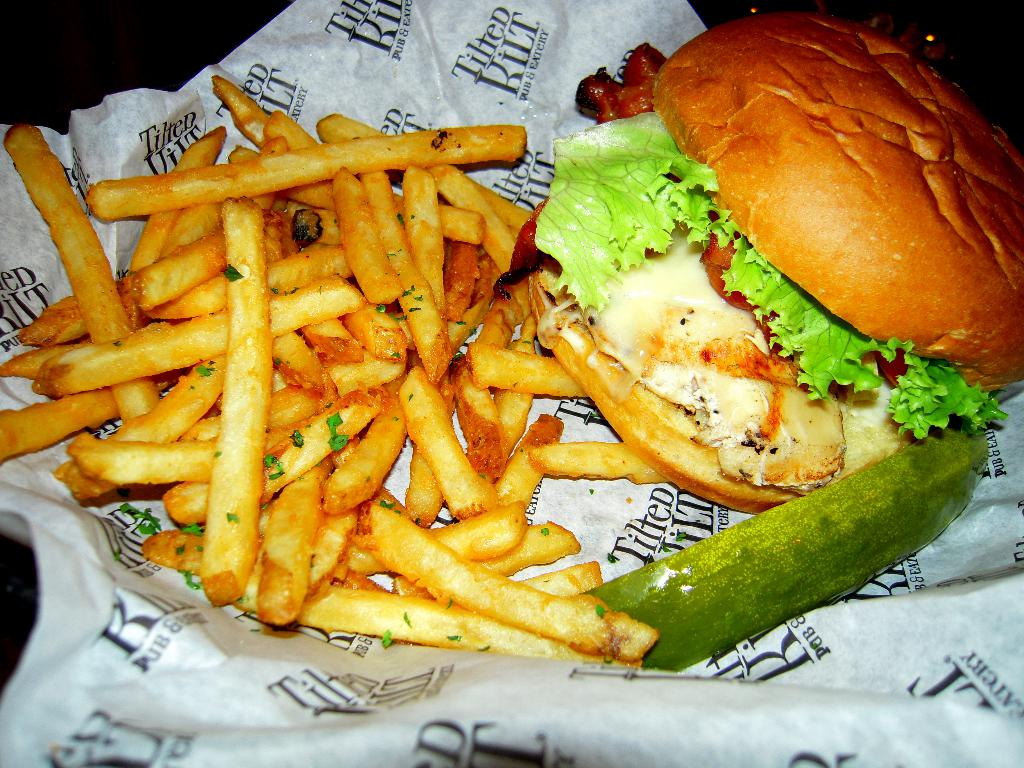French fries: (0, 72, 667, 669)
